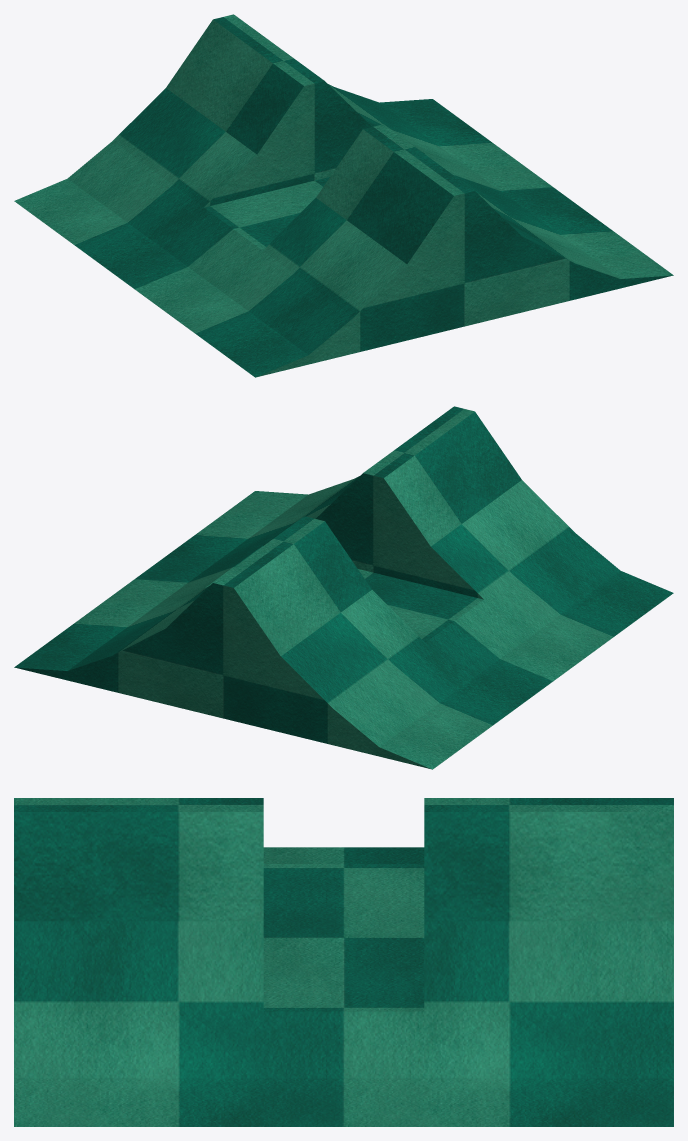
The model's file is Partduo.gltf.
3 views of the same model, one above another, from view 1: azimuth 30°, elevation 25°; view 2: azimuth 150°, elevation 25°; view 3: azimuth 270°, elevation 25° (orthographic). The views are drawn at different scales.
Visible parts, largest first — view 1: Partduo_glb; view 2: Partduo_glb; view 3: Partduo_glb.
Part boxes in pixels (x1,y1,x2,y2): Partduo_glb: (14,14,673,377); Partduo_glb: (14,406,673,769); Partduo_glb: (14,798,673,1126).
Size of what is drawn, in the model's own units: 4 by 1.21 by 3.99.
Materials: 1 (1 with a texture image).
